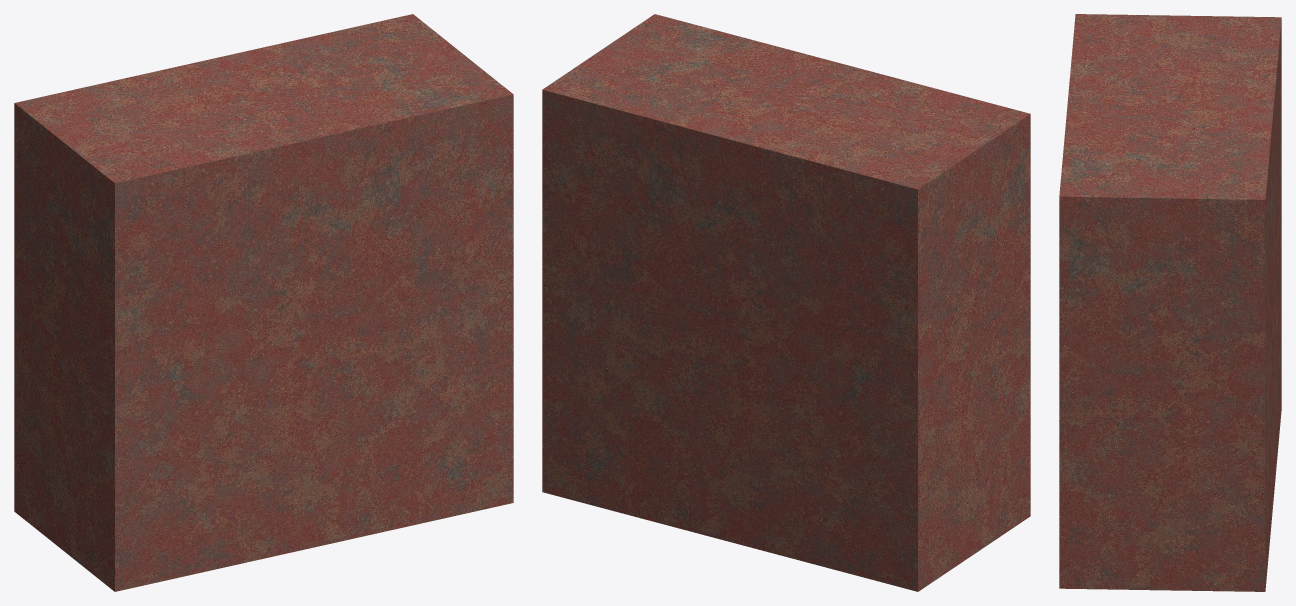
File: cages_small_scenic.glb
3 renders of one model, left to right at view 1: azimuth 30°, elevation 25°; view 2: azimuth 150°, elevation 25°; view 3: azimuth 270°, elevation 25°, orthographic. The views are drawn at different scales.
Visible parts, largest first — view 1: cages_small_scenic_Baked; view 2: cages_small_scenic_Baked; view 3: cages_small_scenic_Baked.
Boxes of the visible parts, <box> form: cages_small_scenic_Baked: <box>14,14,513,591</box>; cages_small_scenic_Baked: <box>542,14,1030,591</box>; cages_small_scenic_Baked: <box>1059,14,1281,591</box>.
Bounding box in the file's own units: 1.02 × 1 × 0.514.
Materials: 1 (1 with a texture image).
